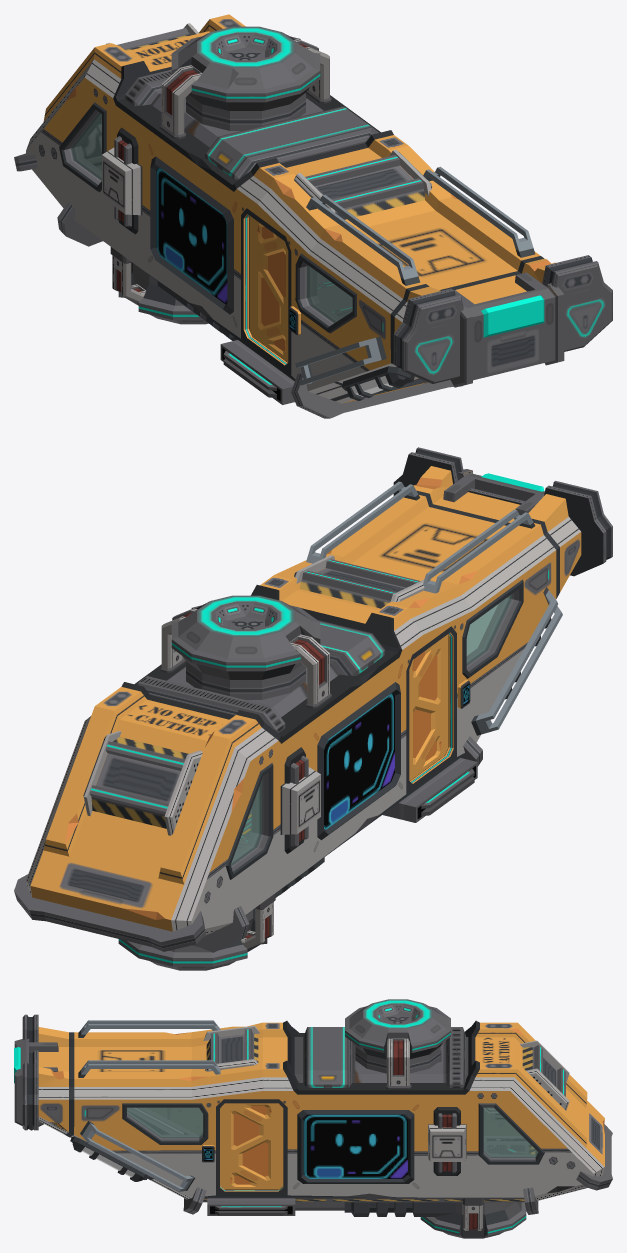
Rendered from SM_Veh_Train_Cockpit_01.fbx.
3 views of the same model, one above another, from view 1: azimuth 30°, elevation 25°; view 2: azimuth 150°, elevation 25°; view 3: azimuth 270°, elevation 25° (orthographic). The views are drawn at different scales.
Visible parts, largest first — view 1: SM_Veh_Train_Cockpit_01; view 2: SM_Veh_Train_Cockpit_01; view 3: SM_Veh_Train_Cockpit_01.
Boxes of the visible parts, left/top/right/bottom form: SM_Veh_Train_Cockpit_01: left=14, top=14, right=612, bottom=418; SM_Veh_Train_Cockpit_01: left=14, top=447, right=612, bottom=970; SM_Veh_Train_Cockpit_01: left=14, top=999, right=612, bottom=1238.
Size of the model in its own units: 347 by 467 by 1208.
